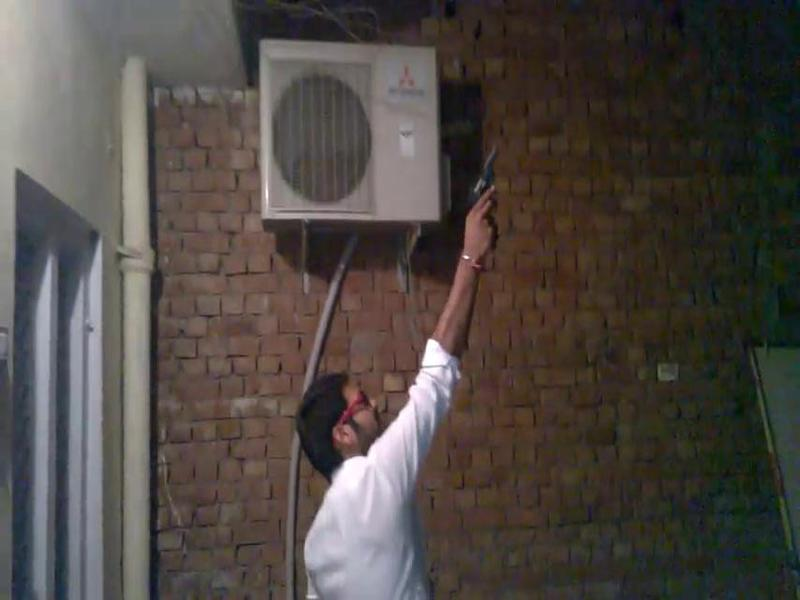Revolver: (447, 123, 532, 264)
